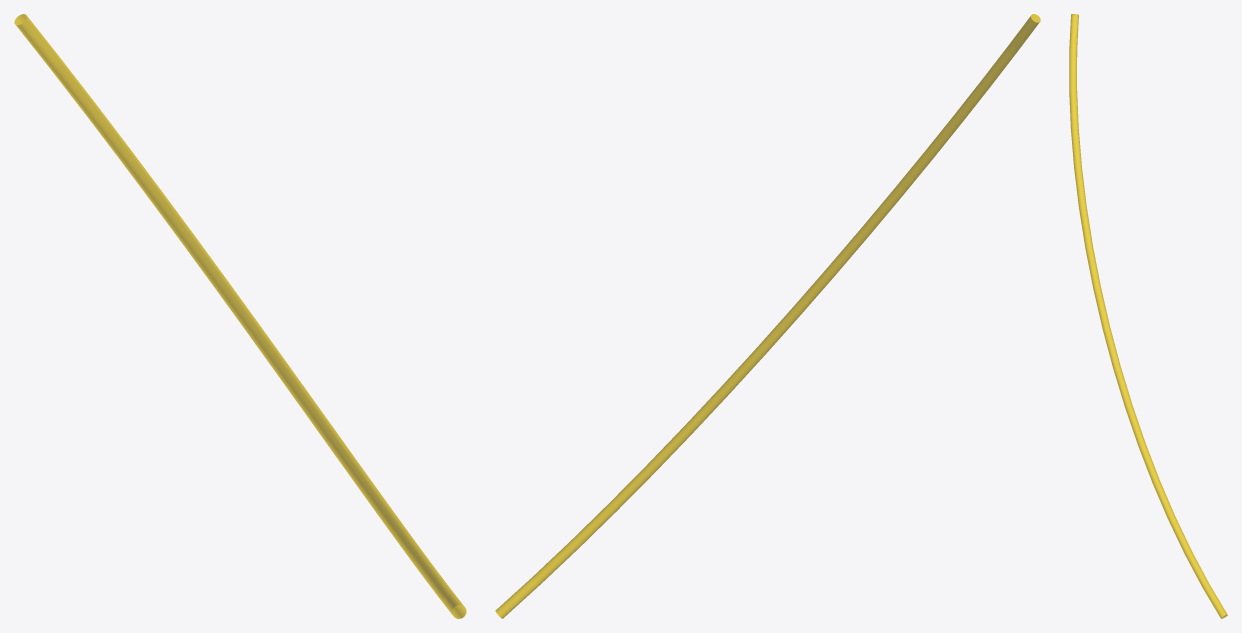
The model's file is Event_84804159_track_7.fbx.
The picture shows the model from 3 angles, left to right: view 1: azimuth 30°, elevation 25°; view 2: azimuth 150°, elevation 25°; view 3: azimuth 270°, elevation 25°; orthographic projection. The views are drawn at different scales.
Visible parts, largest first — view 1: Model; view 2: Model; view 3: Model.
Boxes of the visible parts, left/top/right/bottom form: Model: left=14, top=14, right=466, bottom=618; Model: left=495, top=14, right=1040, bottom=618; Model: left=1069, top=14, right=1227, bottom=618.
Size of the model in its own units: 1.84 by 2.52 by 0.7978.
